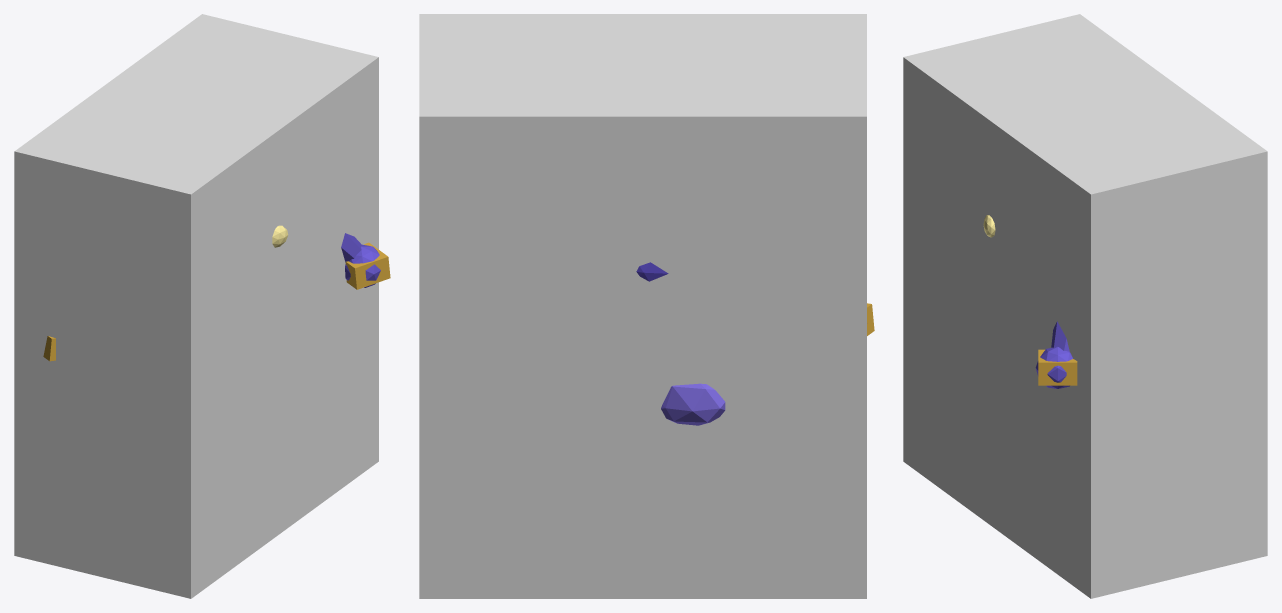
Rendered from desert_sandstorm_djinn.fbx.
3 renders of one model, left to right at view 1: azimuth 30°, elevation 25°; view 2: azimuth 150°, elevation 25°; view 3: azimuth 270°, elevation 25°, orthographic. The views are drawn at different scales.
Visible parts, largest first — view 1: Root__0.00_4.23_0.00__7.57_9.00_4.12, ArmL__Body__-1.90_6.39_0.00; view 2: Root__0.00_4.23_0.00__7.57_9.00_4.12, Tail__Body__0.00_4.26_0.00; view 3: Root__0.00_4.23_0.00__7.57_9.00_4.12, ArmL__Body__-1.90_6.39_0.00.
Boxes of the visible parts, bbox=[...] form: Root__0.00_4.23_0.00__7.57_9.00_4.12: bbox=[14, 14, 378, 598]; ArmL__Body__-1.90_6.39_0.00: bbox=[341, 233, 390, 289]; Root__0.00_4.23_0.00__7.57_9.00_4.12: bbox=[419, 14, 866, 598]; Tail__Body__0.00_4.26_0.00: bbox=[661, 383, 725, 425]; Root__0.00_4.23_0.00__7.57_9.00_4.12: bbox=[903, 14, 1267, 598]; ArmL__Body__-1.90_6.39_0.00: bbox=[1035, 321, 1077, 388].
Size of the model in its own units: 241 by 254 by 206.
Materials: 2 (1 with a texture image).
